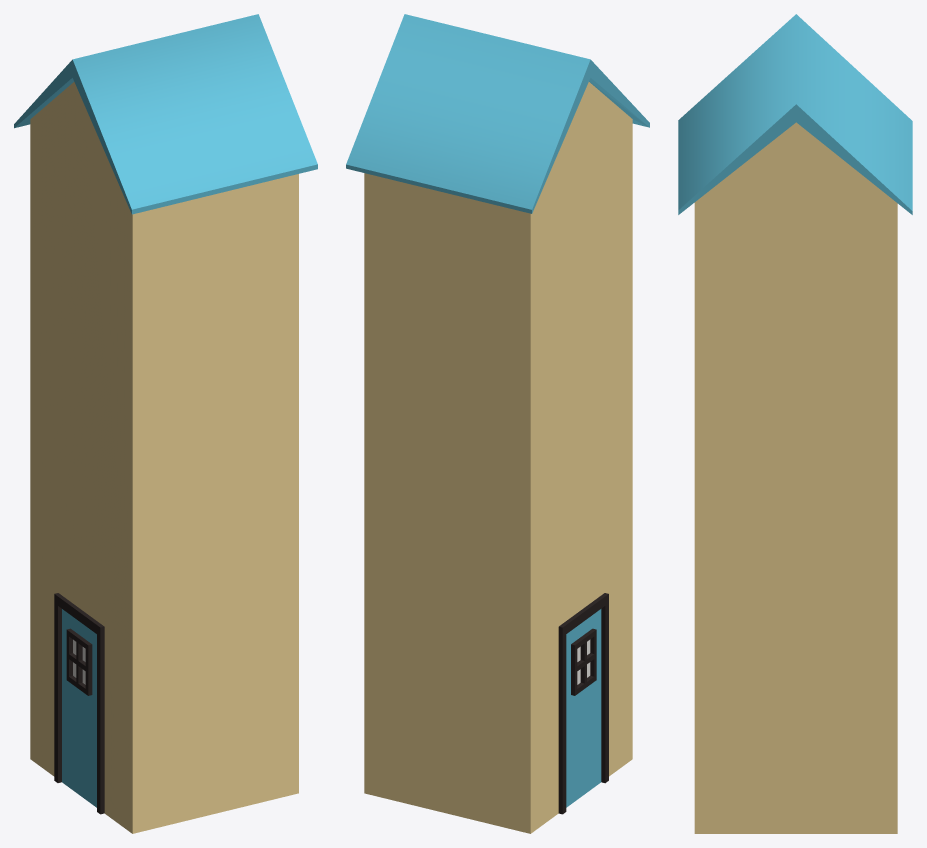
File: House 06 B.FBX
The picture shows the model from 3 angles, left to right: view 1: azimuth 30°, elevation 25°; view 2: azimuth 150°, elevation 25°; view 3: azimuth 270°, elevation 25°; orthographic projection.
Parts seen in each view (by area): view 1: Box001; view 2: Box001; view 3: Box001.
Part boxes in pixels (bbox=[...]): Box001: bbox=[14, 14, 317, 833]; Box001: bbox=[346, 14, 649, 833]; Box001: bbox=[678, 14, 912, 833].
Bounding box in the file's own units: 27.78 × 105 × 30.48.
